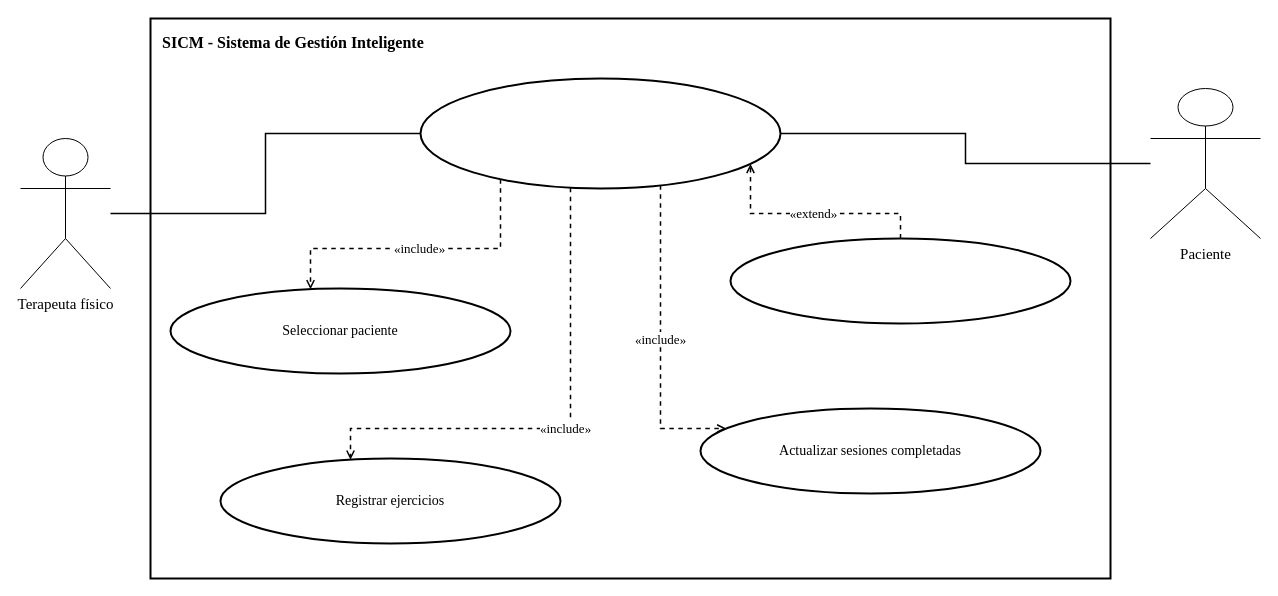
Some shapes in this 1278 by 596 pixel diagram are drawn without their labels. The centre of each missing label's shape, as x and y in pixels:
"Registrar reevaluación" goes at point 900,280.
"Registrar sesión de terapia" goes at point 600,133.
